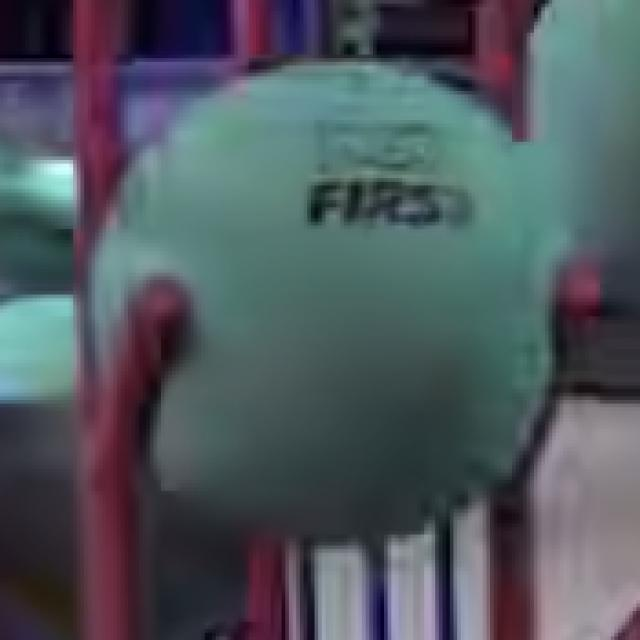Algae: (80, 62, 546, 542), (0, 294, 252, 626), (526, 2, 640, 256), (0, 157, 77, 292)
Reef: (99, 280, 186, 486)
